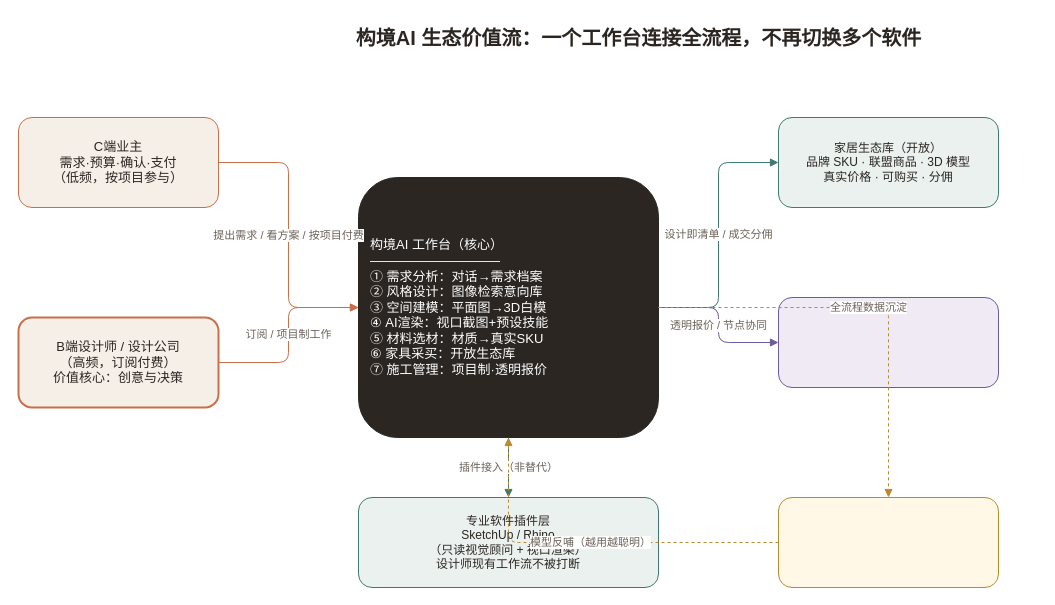
Some shapes in this 1055 by 605 pixel diagram are drawn without their labels. The shapes that lost their labels are listed below. From the top down, each one's box as (x1, y1, x2, y2) in pixels, then its label:
(778, 296, 998, 388): 施工协同（轻量） 节点 / 验收 / 变更留痕 报价透明 · 不碰履约担保
(778, 496, 998, 588): 数据飞轮 项目数据 → 风格/报价/布局模型 → 反哺工作台
